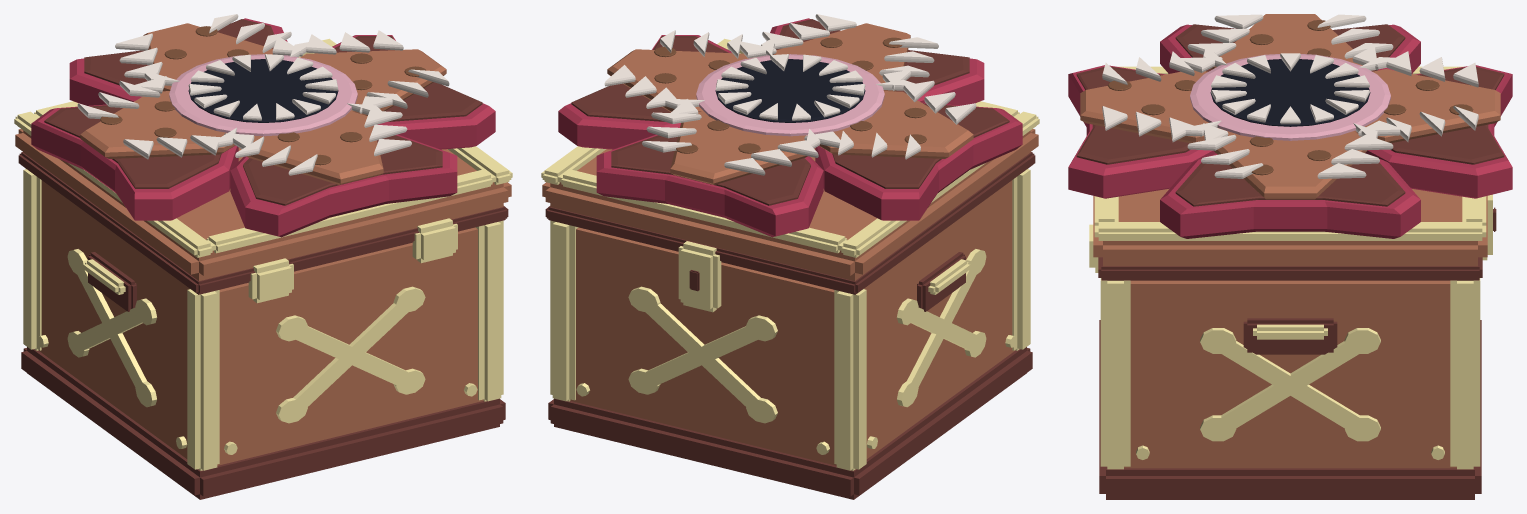
Rendered from crate_verme_areia.fbx.
The picture shows the model from 3 angles, left to right: view 1: azimuth 30°, elevation 25°; view 2: azimuth 150°, elevation 25°; view 3: azimuth 270°, elevation 25°; orthographic projection. The views are drawn at different scales.
Parts seen in each view (by area): view 1: crate_verme_areia_caixa; view 2: crate_verme_areia_caixa; view 3: crate_verme_areia_caixa.
Part boxes in pixels (x1,y1,x2,y2): crate_verme_areia_caixa: (14, 14, 512, 499); crate_verme_areia_caixa: (541, 14, 1039, 499); crate_verme_areia_caixa: (1068, 14, 1512, 499).
Bounding box in the file's own units: 2.95 × 2.46 × 2.95.
Materials: 1 (1 with a texture image).
